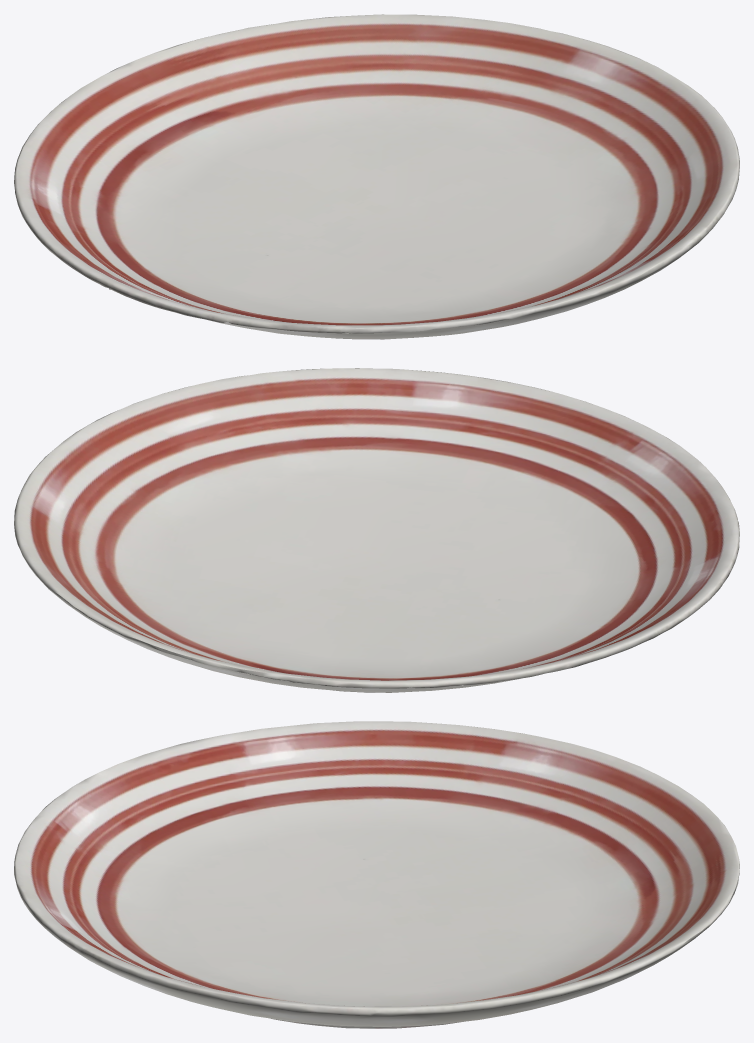
Rendered from Threshold_Bistro_Ceramic_Dinner_Plate_Ruby_Ring.glb.
3 views of the same model, one above another, from view 1: azimuth 30°, elevation 25°; view 2: azimuth 150°, elevation 25°; view 3: azimuth 270°, elevation 25° (orthographic).
Visible parts, largest first — view 1: Threshold_Bistro_Ceramic_Dinner_Plate_Ruby_Ring; view 2: Threshold_Bistro_Ceramic_Dinner_Plate_Ruby_Ring; view 3: Threshold_Bistro_Ceramic_Dinner_Plate_Ruby_Ring.
Part boxes in pixels (box(x1,y1,x2,y2)): Threshold_Bistro_Ceramic_Dinner_Plate_Ruby_Ring: box(14, 14, 739, 339); Threshold_Bistro_Ceramic_Dinner_Plate_Ruby_Ring: box(14, 368, 739, 692); Threshold_Bistro_Ceramic_Dinner_Plate_Ruby_Ring: box(14, 721, 739, 1028).
Size of the model in its own units: 0.2745 by 0.0333 by 0.274.
Materials: 1 (1 with a texture image).
